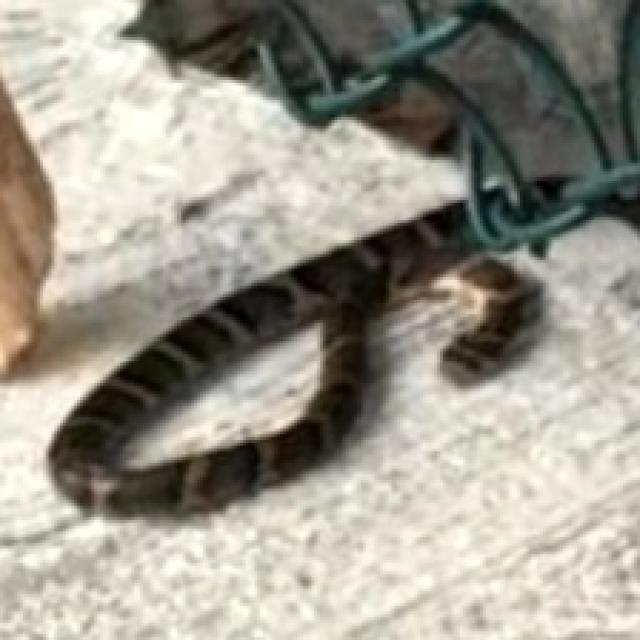king cobra: (49, 203, 540, 514), (49, 203, 537, 511)
